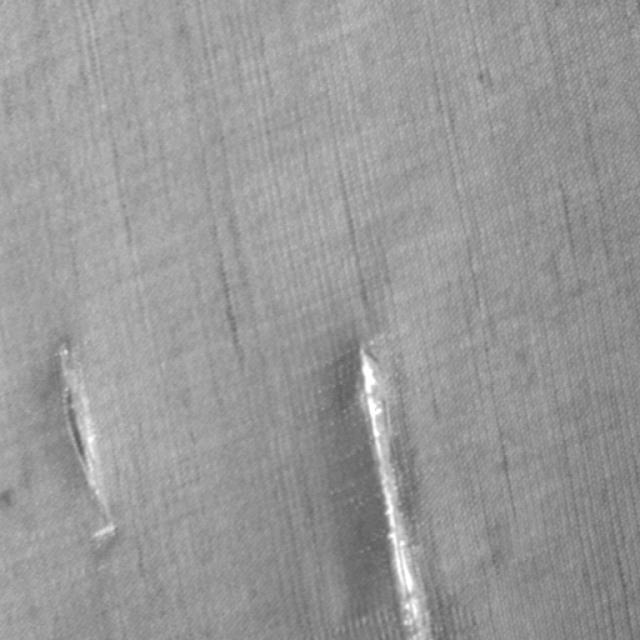hole: (348, 329, 440, 639), (51, 335, 121, 549)
